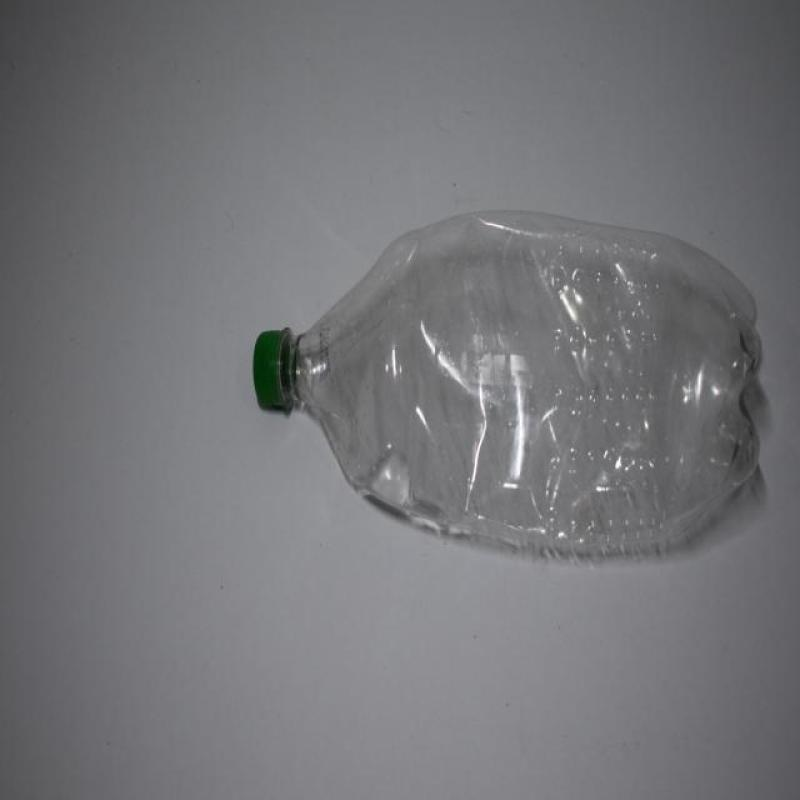botella: (254, 211, 768, 568)
